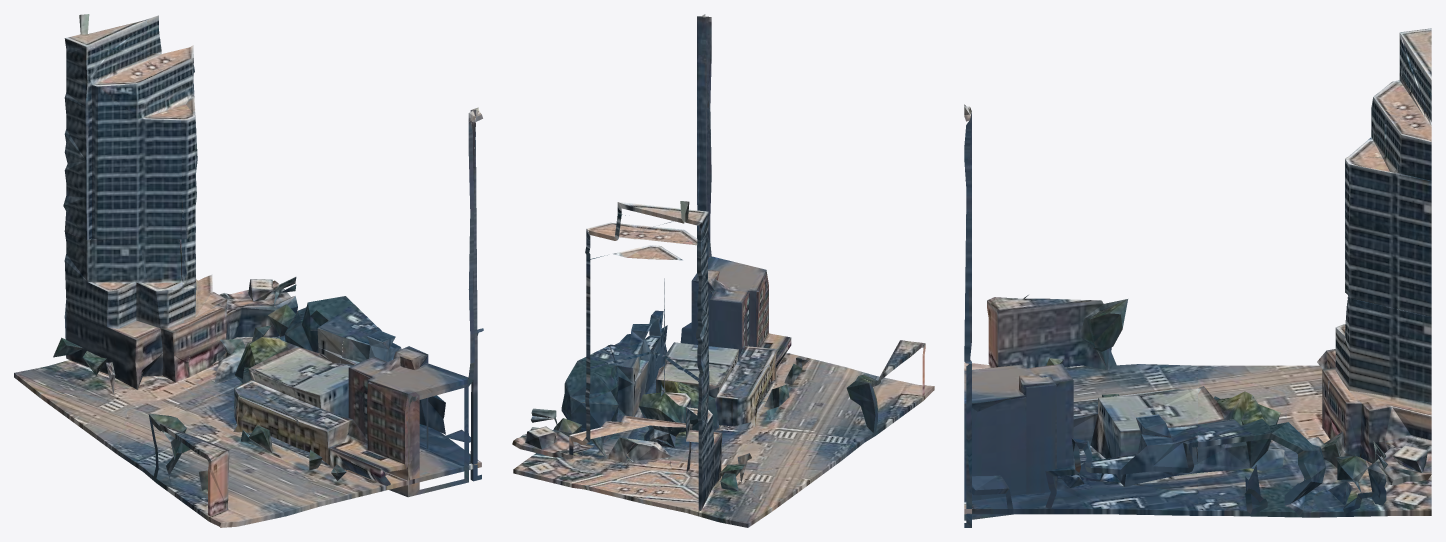
Rendered from chunk_-7_-3.glb.
3 renders of one model, left to right at view 1: azimuth 30°, elevation 25°; view 2: azimuth 150°, elevation 25°; view 3: azimuth 270°, elevation 25°, orthographic. The views are drawn at different scales.
Visible parts, largest first — view 1: hero-chunk; view 2: hero-chunk; view 3: hero-chunk.
Boxes of the visible parts, x1,y1,x2,y2 form: hero-chunk: (14,14,483,527); hero-chunk: (512,14,934,527); hero-chunk: (964,28,1431,527).
Bounding box in the file's own units: 56.65 × 75.39 × 76.33.
Materials: 3 (3 with a texture image).
